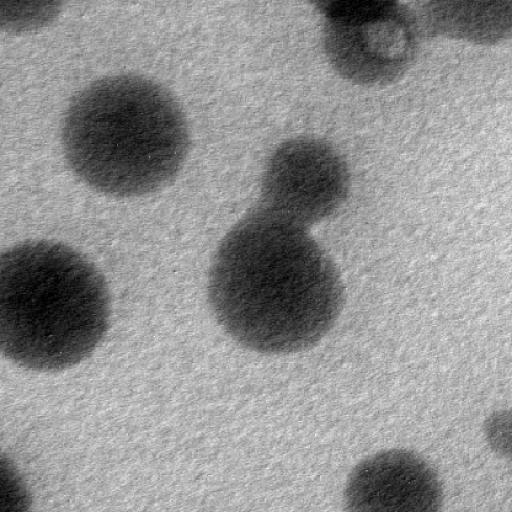Nanoparticles: (205, 219, 353, 357), (60, 69, 194, 198), (0, 238, 113, 374), (320, 2, 421, 88), (264, 137, 360, 216), (342, 447, 445, 512), (438, 1, 512, 44), (304, 1, 406, 27), (0, 455, 43, 511), (1, 0, 63, 33), (482, 407, 512, 452)
